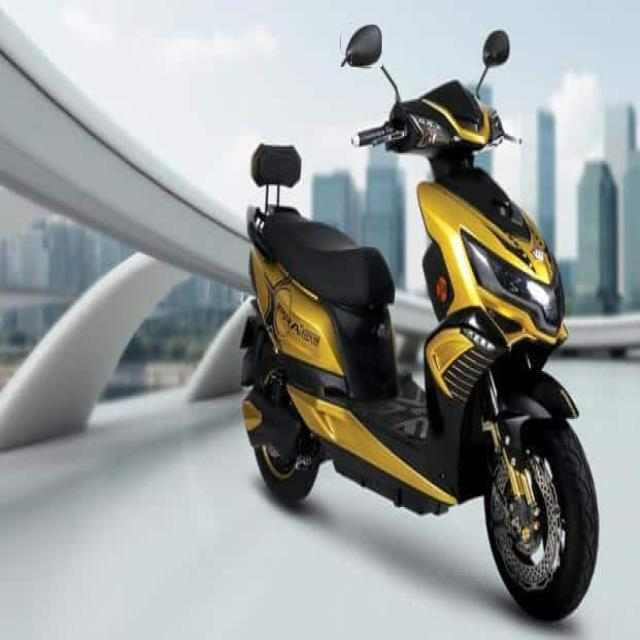motorcycle: (242, 81, 598, 618), (341, 25, 382, 67), (482, 32, 509, 68)
